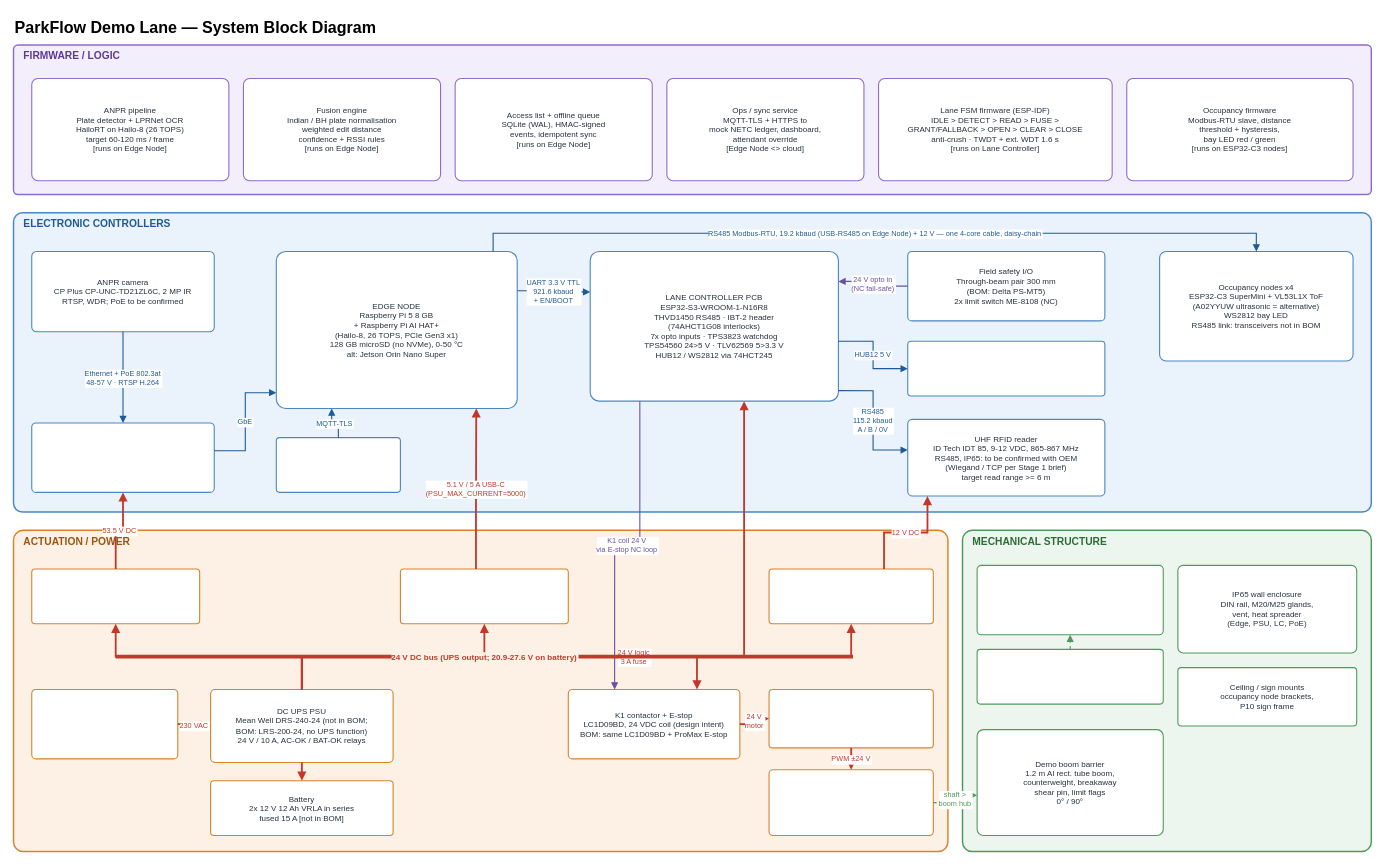
Some shapes in this 1384 by 864 pixel diagram are drawn without their labels. Each missing label, with the centre of its shape:
"230 VAC mains 2x MCB 1P 6 A C (xC60) SPD Type 2, PE bond" belongs at (x=104, y=724).
"Barrier motor Lucas TVS 24 V wiper motor, 18 N·m worm gear (BOM)" belongs at (x=851, y=802).
"DDR-120B-48 24 > 53.5 V / 2.5 A (PoE) [design intent, not in BOM]" belongs at (x=115, y=596).
"DDR-30G-5 24 > 5.1 V / 6 A (Edge Node) [BOM: XL4015 5 A buck]" belongs at (x=484, y=596).
"DDR-60G-12 24 > 12 V / 5 A (RFID, occ.) [BOM: LRS-100-12 from mains]" belongs at (x=851, y=596).
"H-bridge module IBT-2 (2x BTS7960) module PWM from ESP32-S3 via 74AHCT1G08" belongs at (x=851, y=718).
"Lane gantry pole 80x80 Al T-slot, 2.4 m 250x250x16 base, 4x M12" belongs at (x=1069, y=600).
"P10 LED sign 320x160 mm, HUB12, 5 V" belongs at (x=1006, y=368).
"PoE switch Netgear GS305P 802.3af/at, 63 W PoE budget" belongs at (x=122, y=457).
"Sensor mounts RFID bracket @ 1.5 m camera arm @ 1.2 m, 15-25°" belongs at (x=1069, y=676).
"Uplink 4G router / site LAN (lane runs offline)" belongs at (x=338, y=465).
